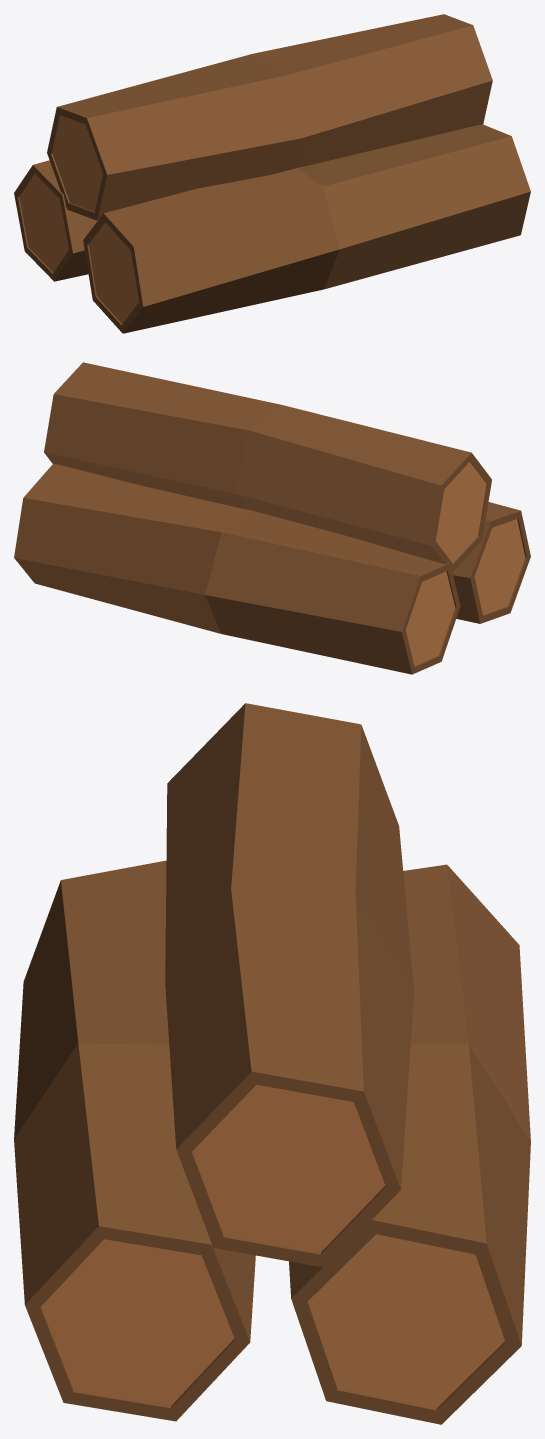
File: logs.fbx
The picture shows the model from 3 angles, top to bottom: view 1: azimuth 30°, elevation 25°; view 2: azimuth 150°, elevation 25°; view 3: azimuth 270°, elevation 25°; orthographic projection. The views are drawn at different scales.
Visible parts, largest first — view 1: Cylinder.002, Cylinder.003, Cylinder.001; view 2: Cylinder.001, Cylinder.003, Cylinder.002; view 3: Cylinder.003, Cylinder.002, Cylinder.001.
Part boxes in pixels (x1=…): Cylinder.002: x1=83, y1=124, x2=530, y2=333; Cylinder.003: x1=47, y1=14, x2=492, y2=220; Cylinder.001: x1=14, y1=160, x2=97, y2=281; Cylinder.001: x1=14, y1=463, x2=460, y2=674; Cylinder.003: x1=44, y1=362, x2=491, y2=571; Cylinder.002: x1=452, y1=502, x2=530, y2=623; Cylinder.003: x1=165, y1=703, x2=414, y2=1267; Cylinder.002: x1=14, y1=860, x2=255, y2=1421; Cylinder.001: x1=289, y1=864, x2=530, y2=1424.
Bounding box in the file's own units: 112 × 51.84 × 67.42.
